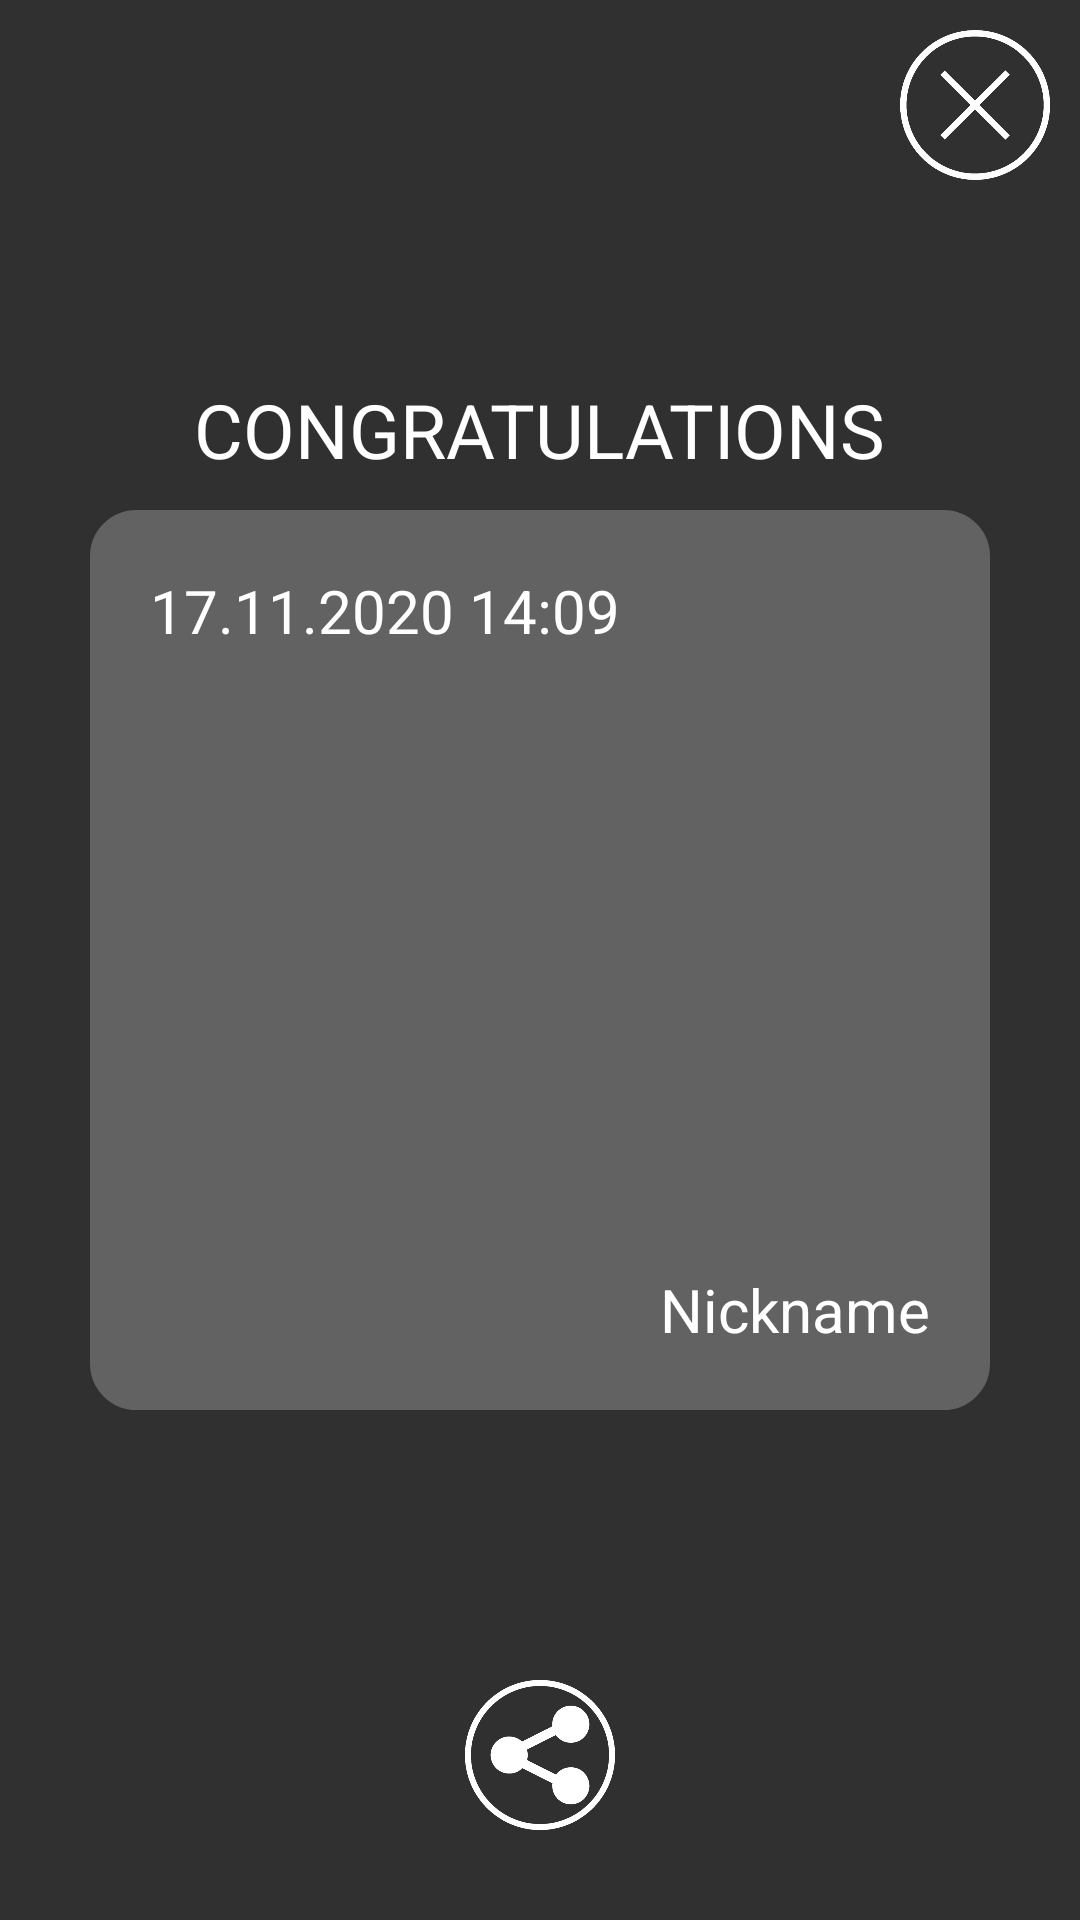

Locate icon controls on the screen. Image size 1080px x 1920px, boxes as (left=x1, top=y1, right=x2, bottom=y2).
close: (left=900, top=30, right=1050, bottom=180)
share: (left=465, top=1680, right=615, bottom=1830)
